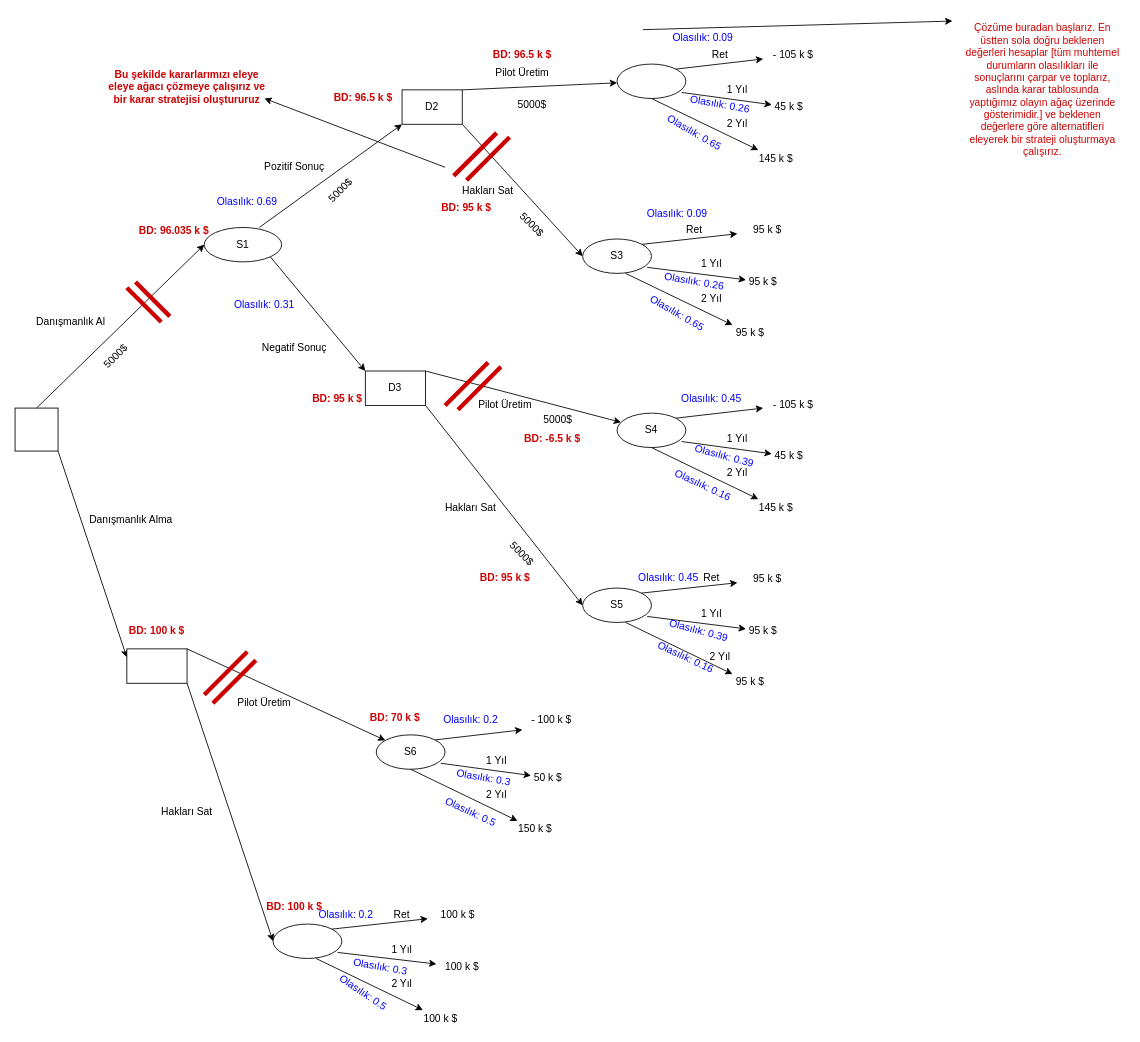
This 1140x1042 diagram has some shape labels left out. The shapes that lost their labels are listed below. From the top down, each one's centre as x and y in pixels, then its label:
point 651,80: S2
point 36,429: D1
point 156,665: D4
point 307,940: S7
